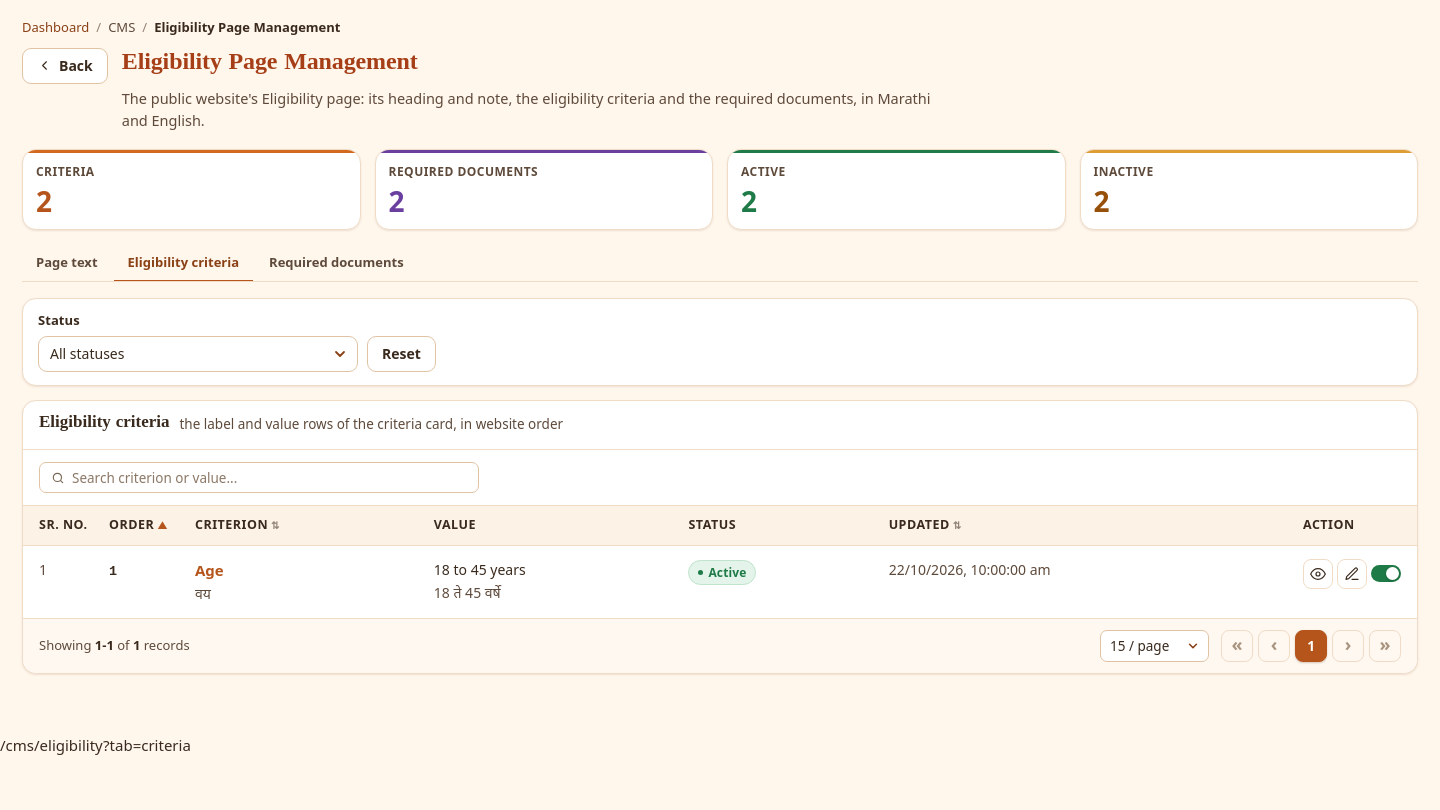
<EligibilityList> tabs › deactivates a criterion after confirmation and refreshes the list and the totals
Expected: the text "Age" is shown, left=195, top=560, right=224, bottom=580
Click the switch.
click(1386, 574)  # box left=1371, top=565, right=1401, bottom=582
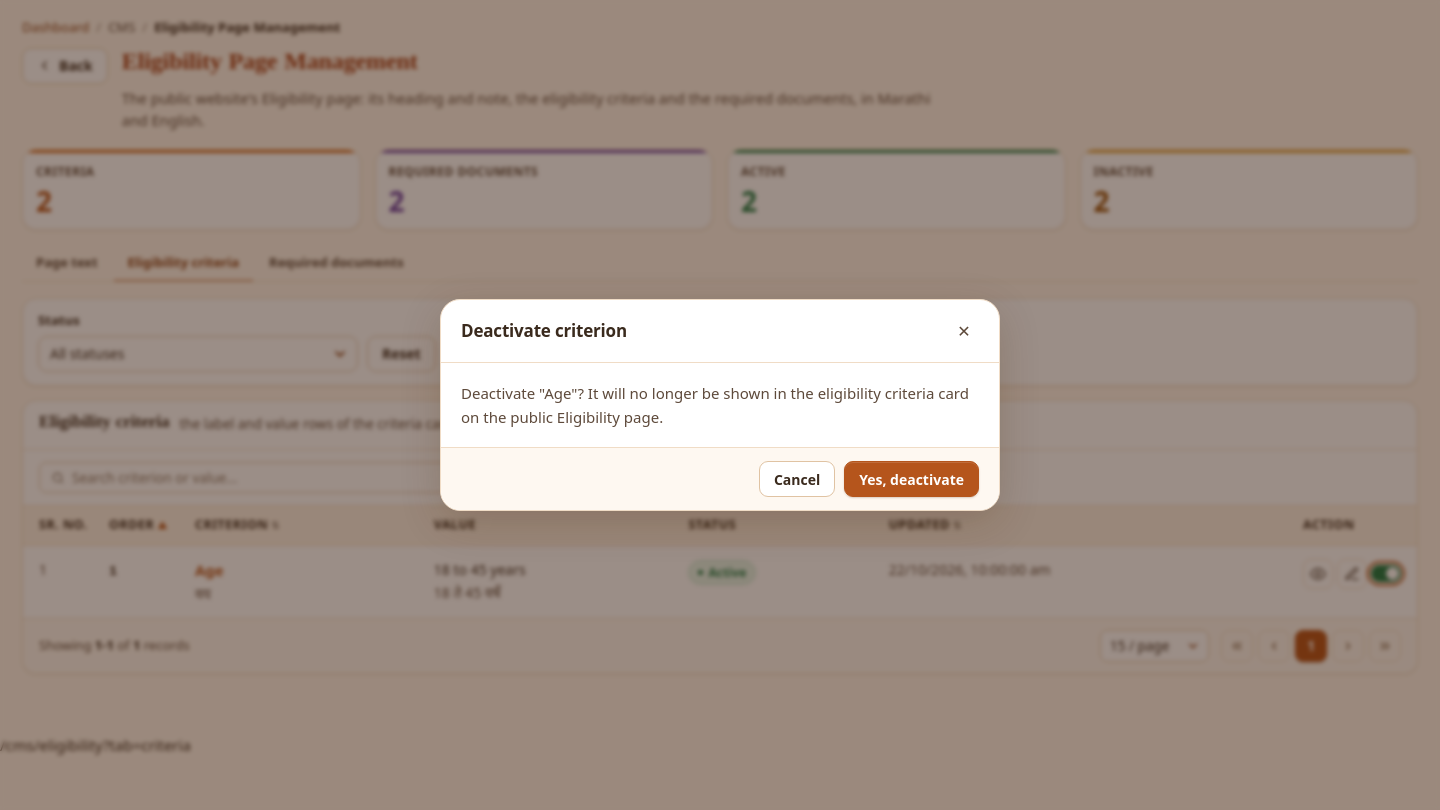
Result: the text "Deactivate \"Age\"? It will no longer be shown in the eligibility criteria card" is shown at left=461, top=383, right=969, bottom=427
Click the button "Yes, deactivate".
click(912, 479)  # box left=844, top=461, right=979, bottom=497
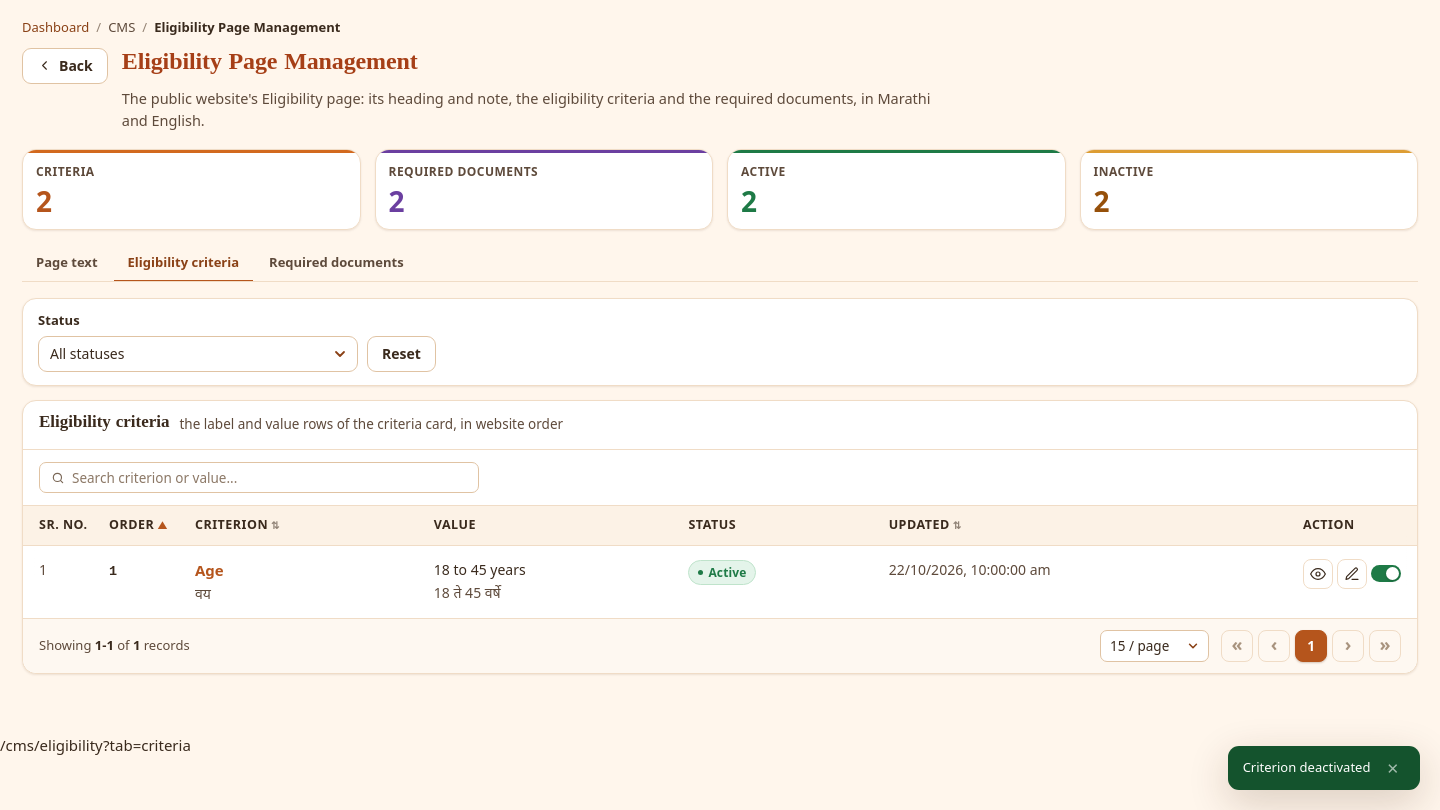
Result: the element with id "toast-root" shows "Criterion deactivated" at left=1243, top=758, right=1370, bottom=776
